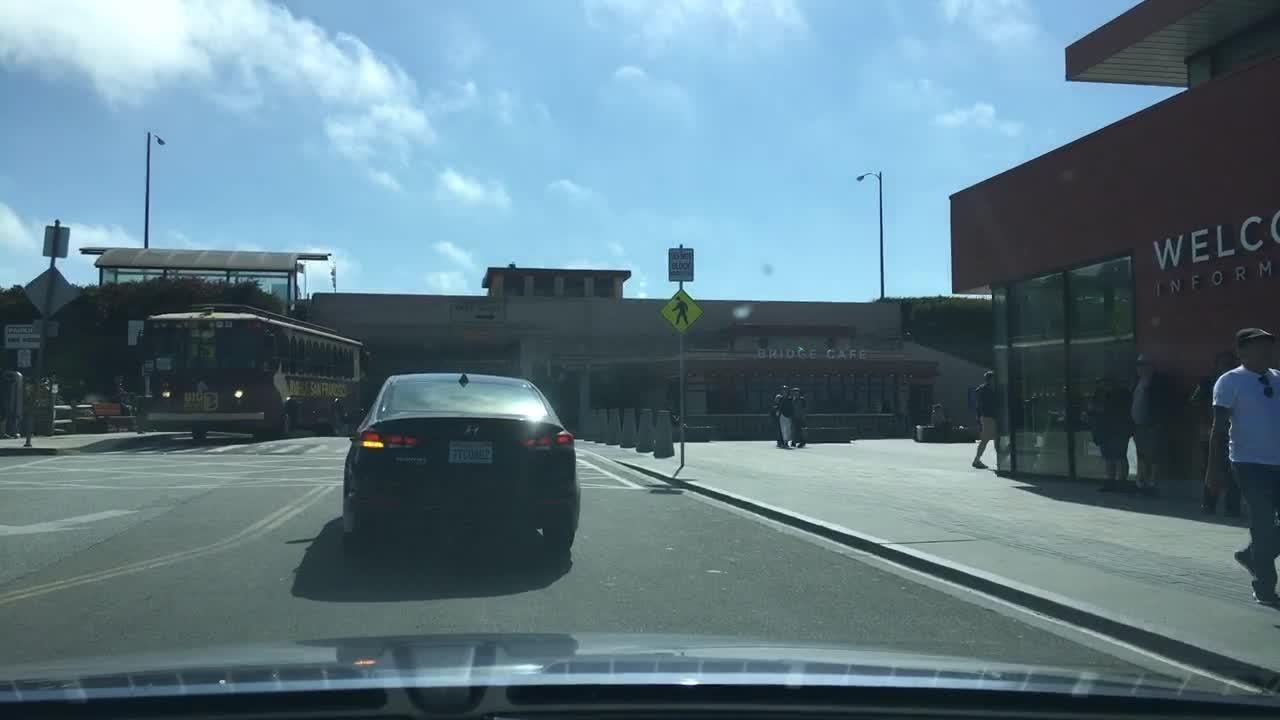Hyundai: (454, 418, 495, 448)
